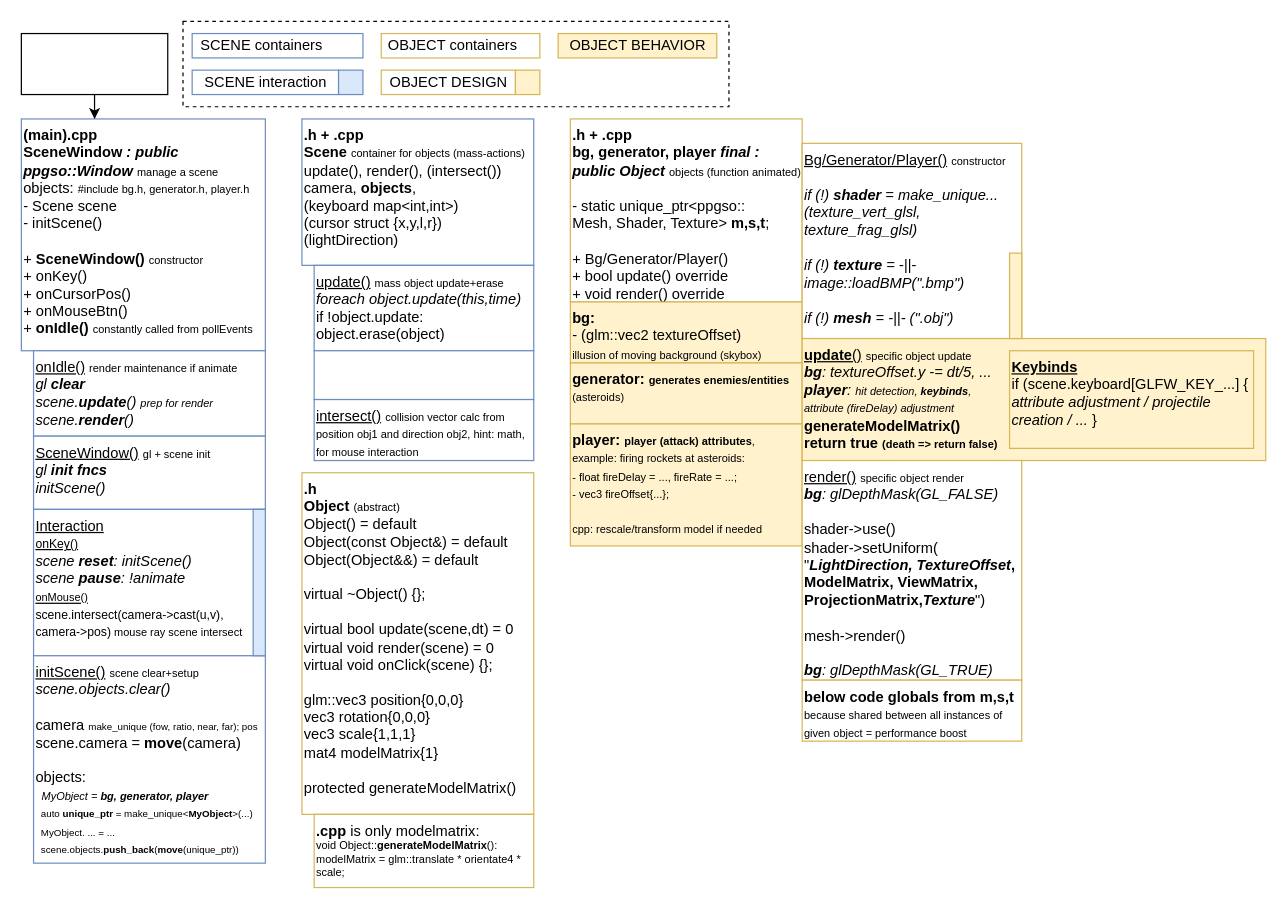
Image size: 1287x909. Some labels were removed from this diagram. The shapes that lost their labels are listed below. From the top down, each one's centre as x and y in pixels, then its label:
the point at 94,63: main() init window loop SceneWindow sw loop: sw.pollEvents
the point at 423,375: render() mass object render foreach object.render(this)
